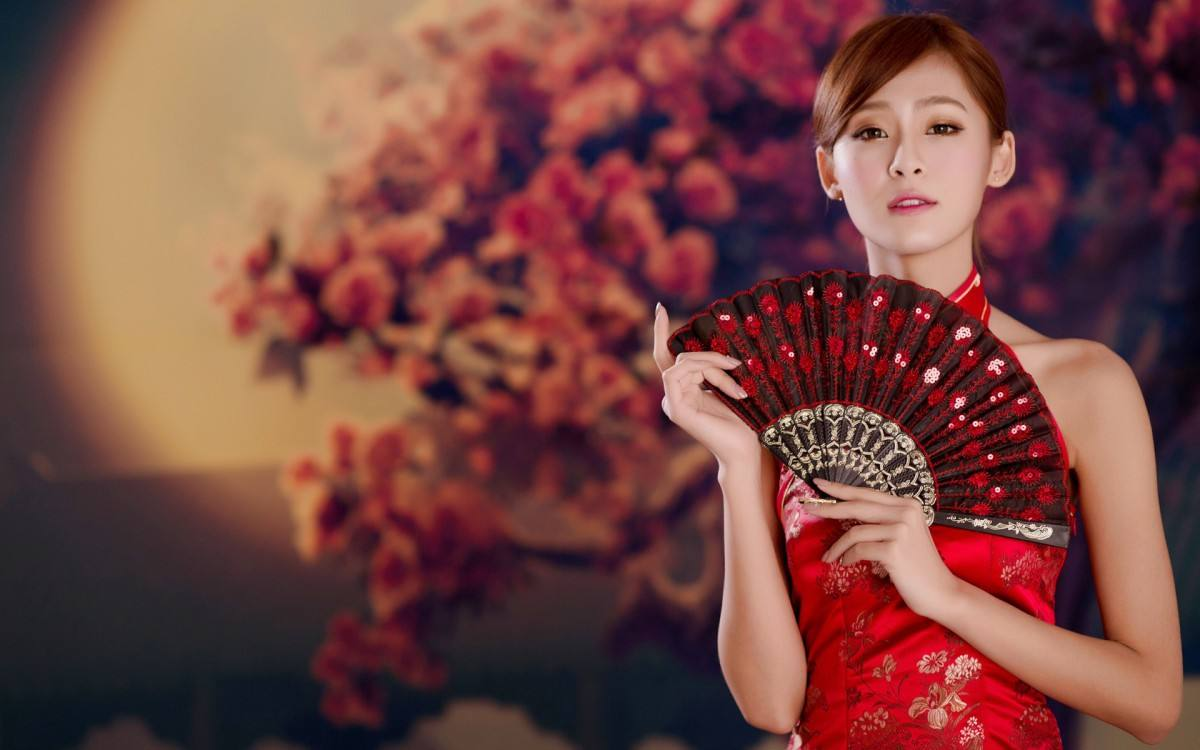person: (640, 63, 1103, 750)
